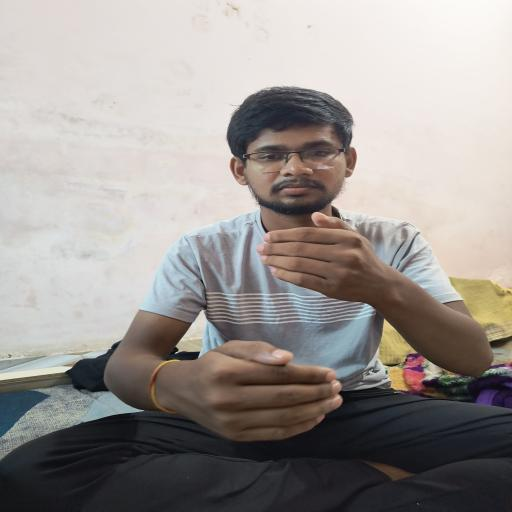Good: (178, 208, 389, 453)
